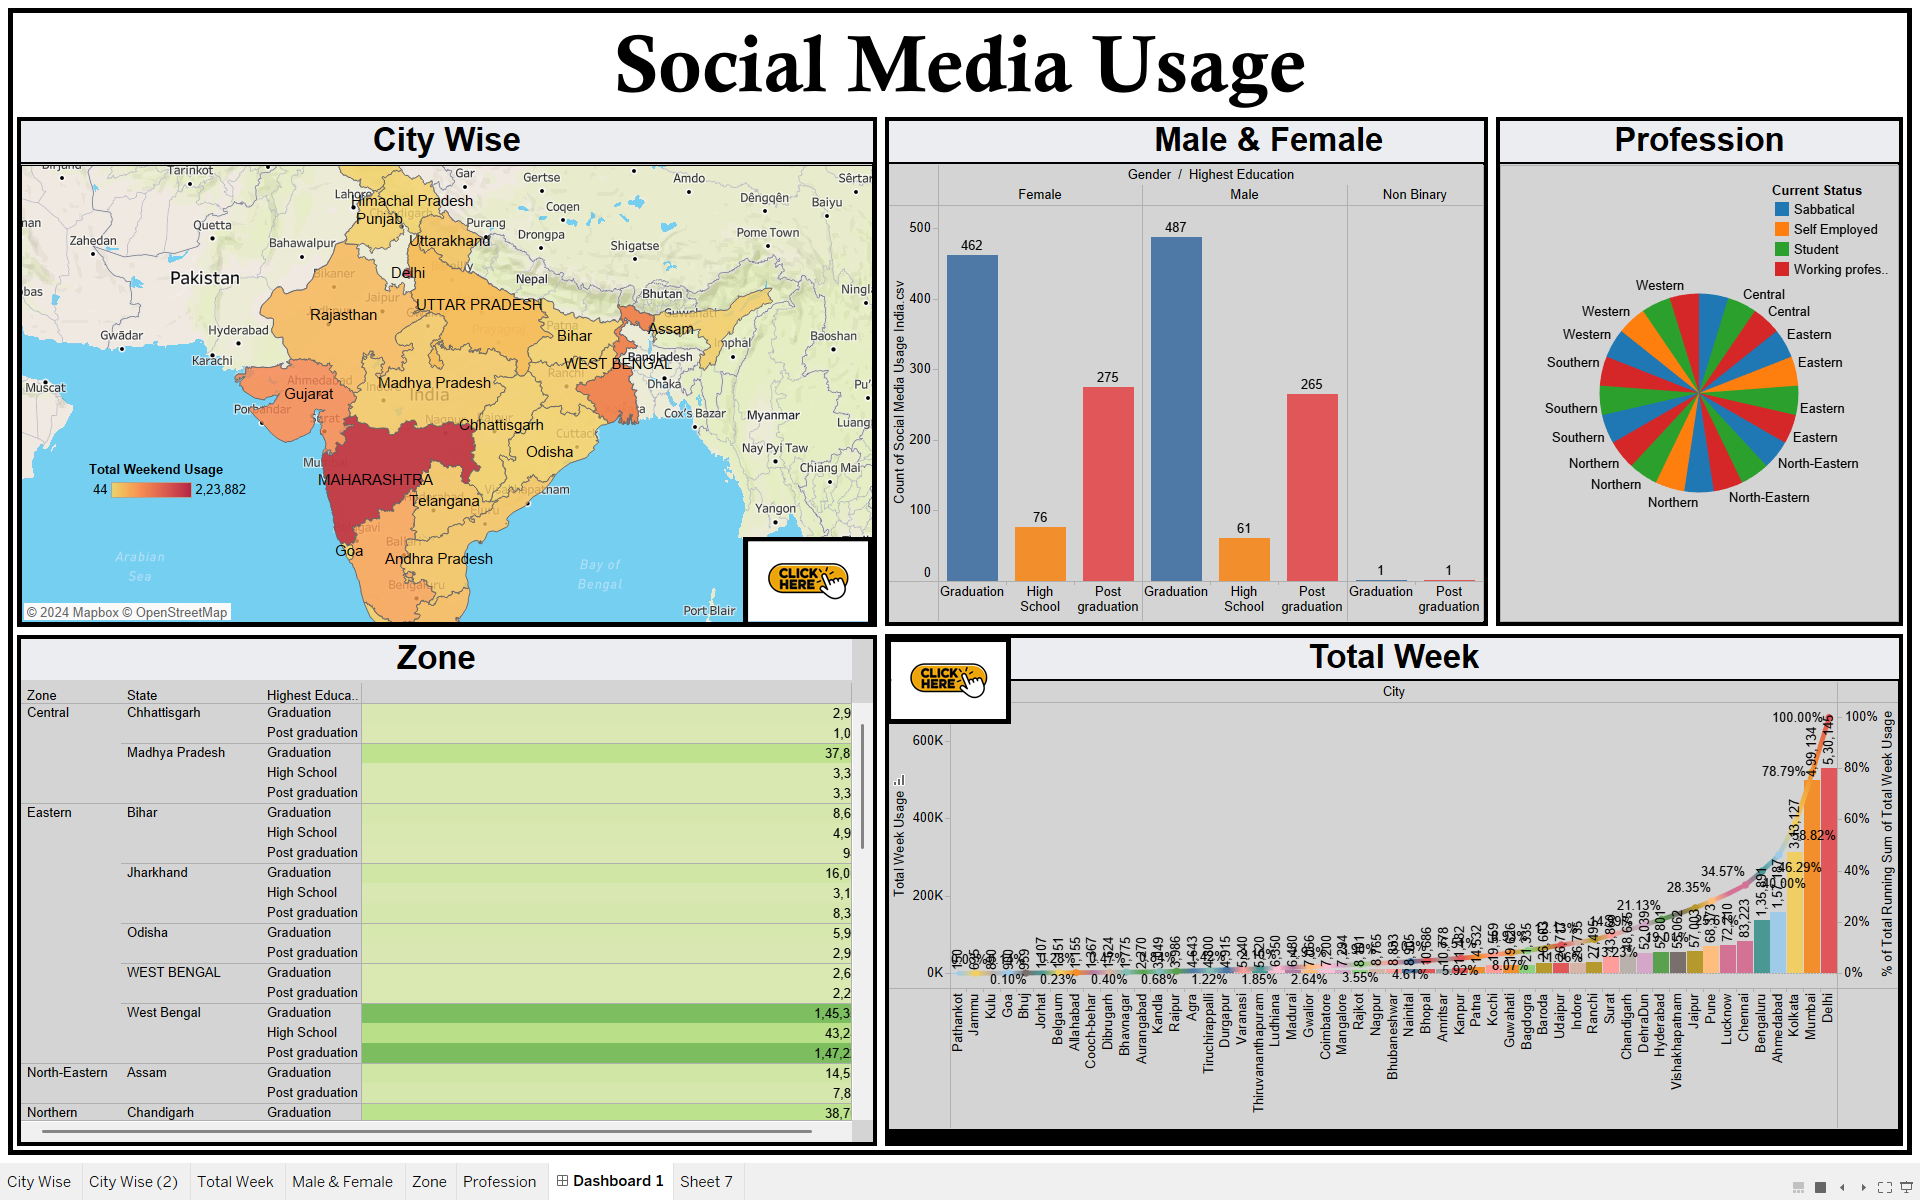

The page's visual inventory and layout, read from the dashboard file:
{"tool":"tableau","page":{"name":"Dashboard 1","canvas":[1000,1000],"units":"permille","ordinal":0},"visuals":[{"type":"title","box":[7.9,12.6,984.3,97]},{"type":"worksheet","title":"City Wise (2)","mark":"Multipolygon","box":[7.9,109.6,451.3,438.2]},{"type":"worksheet","title":"Male & Female","mark":"Automatic","rows":["Social Media Usage India.csv_BD24AE19F29849F993FDC9BCEFEE611"],"cols":["Gender","Highest Education"],"box":[459.1,109.6,317.5,437.9]},{"type":"worksheet","title":"Sheet 7","mark":"Pie","box":[776.6,109.6,215.6,437.9]},{"type":"legend","title":"Sheet 7","param":"[federated.1h5208b07p9xpv19b11fn0qf0i4b].[none:Current Status:nk]","box":[922.8,157.1,64.6,82.4]},{"type":"legend","title":"City Wise (2)","param":"[federated.1h5208b07p9xpv19b11fn0qf0i4b].[sum:Total Weekend Usage:qk]","box":[46.5,397.7,84.5,67.9]},{"type":"dashboard-object","box":[386.8,461.7,67.6,77.6]},{"type":"worksheet","title":"Total Week","mark":"Automatic","rows":["Total Week Usage","Total Week Usage"],"cols":["City"],"box":[459.1,547.5,533,439.9]},{"type":"worksheet","title":"Zone","mark":"Square","rows":["Zone","State","Highest Education"],"box":[7.9,547.8,451.3,439.6]},{"type":"dashboard-object","box":[461.7,548,65.2,74.7]}]}

Visuals, with their boxes on the dashboard's canvas, which has no fixed pixel size, in thousandths of its width and height (x1, y1, x2, y2). These are canvas units, not pixel positions in the 1920x1200 screenshot, which may show the page scaled, cropped or inside an application window:
title: (8,13,992,110)
"City Wise (2)" worksheet (Multipolygon marks): (8,110,459,548)
"Male & Female" worksheet: (459,110,777,548)
"Sheet 7" worksheet (Pie marks): (777,110,992,548)
"Sheet 7" legend: (923,157,987,240)
"City Wise (2)" legend: (46,398,131,466)
dashboard-object: (387,462,454,539)
"Total Week" worksheet: (459,548,992,987)
"Zone" worksheet (Square marks): (8,548,459,987)
dashboard-object: (462,548,527,623)
